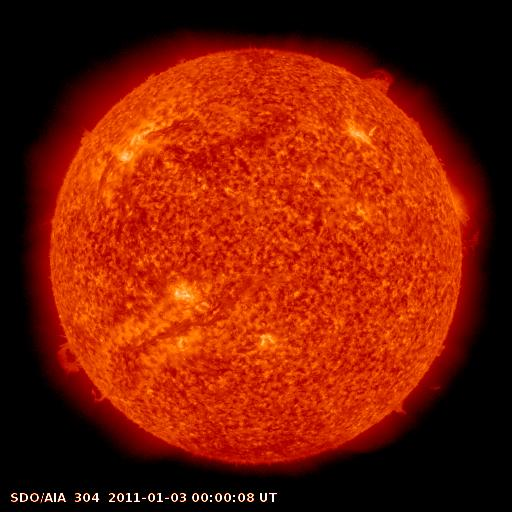prominence: (396, 332, 465, 417), (40, 331, 117, 407), (349, 53, 407, 110), (65, 115, 105, 156)
